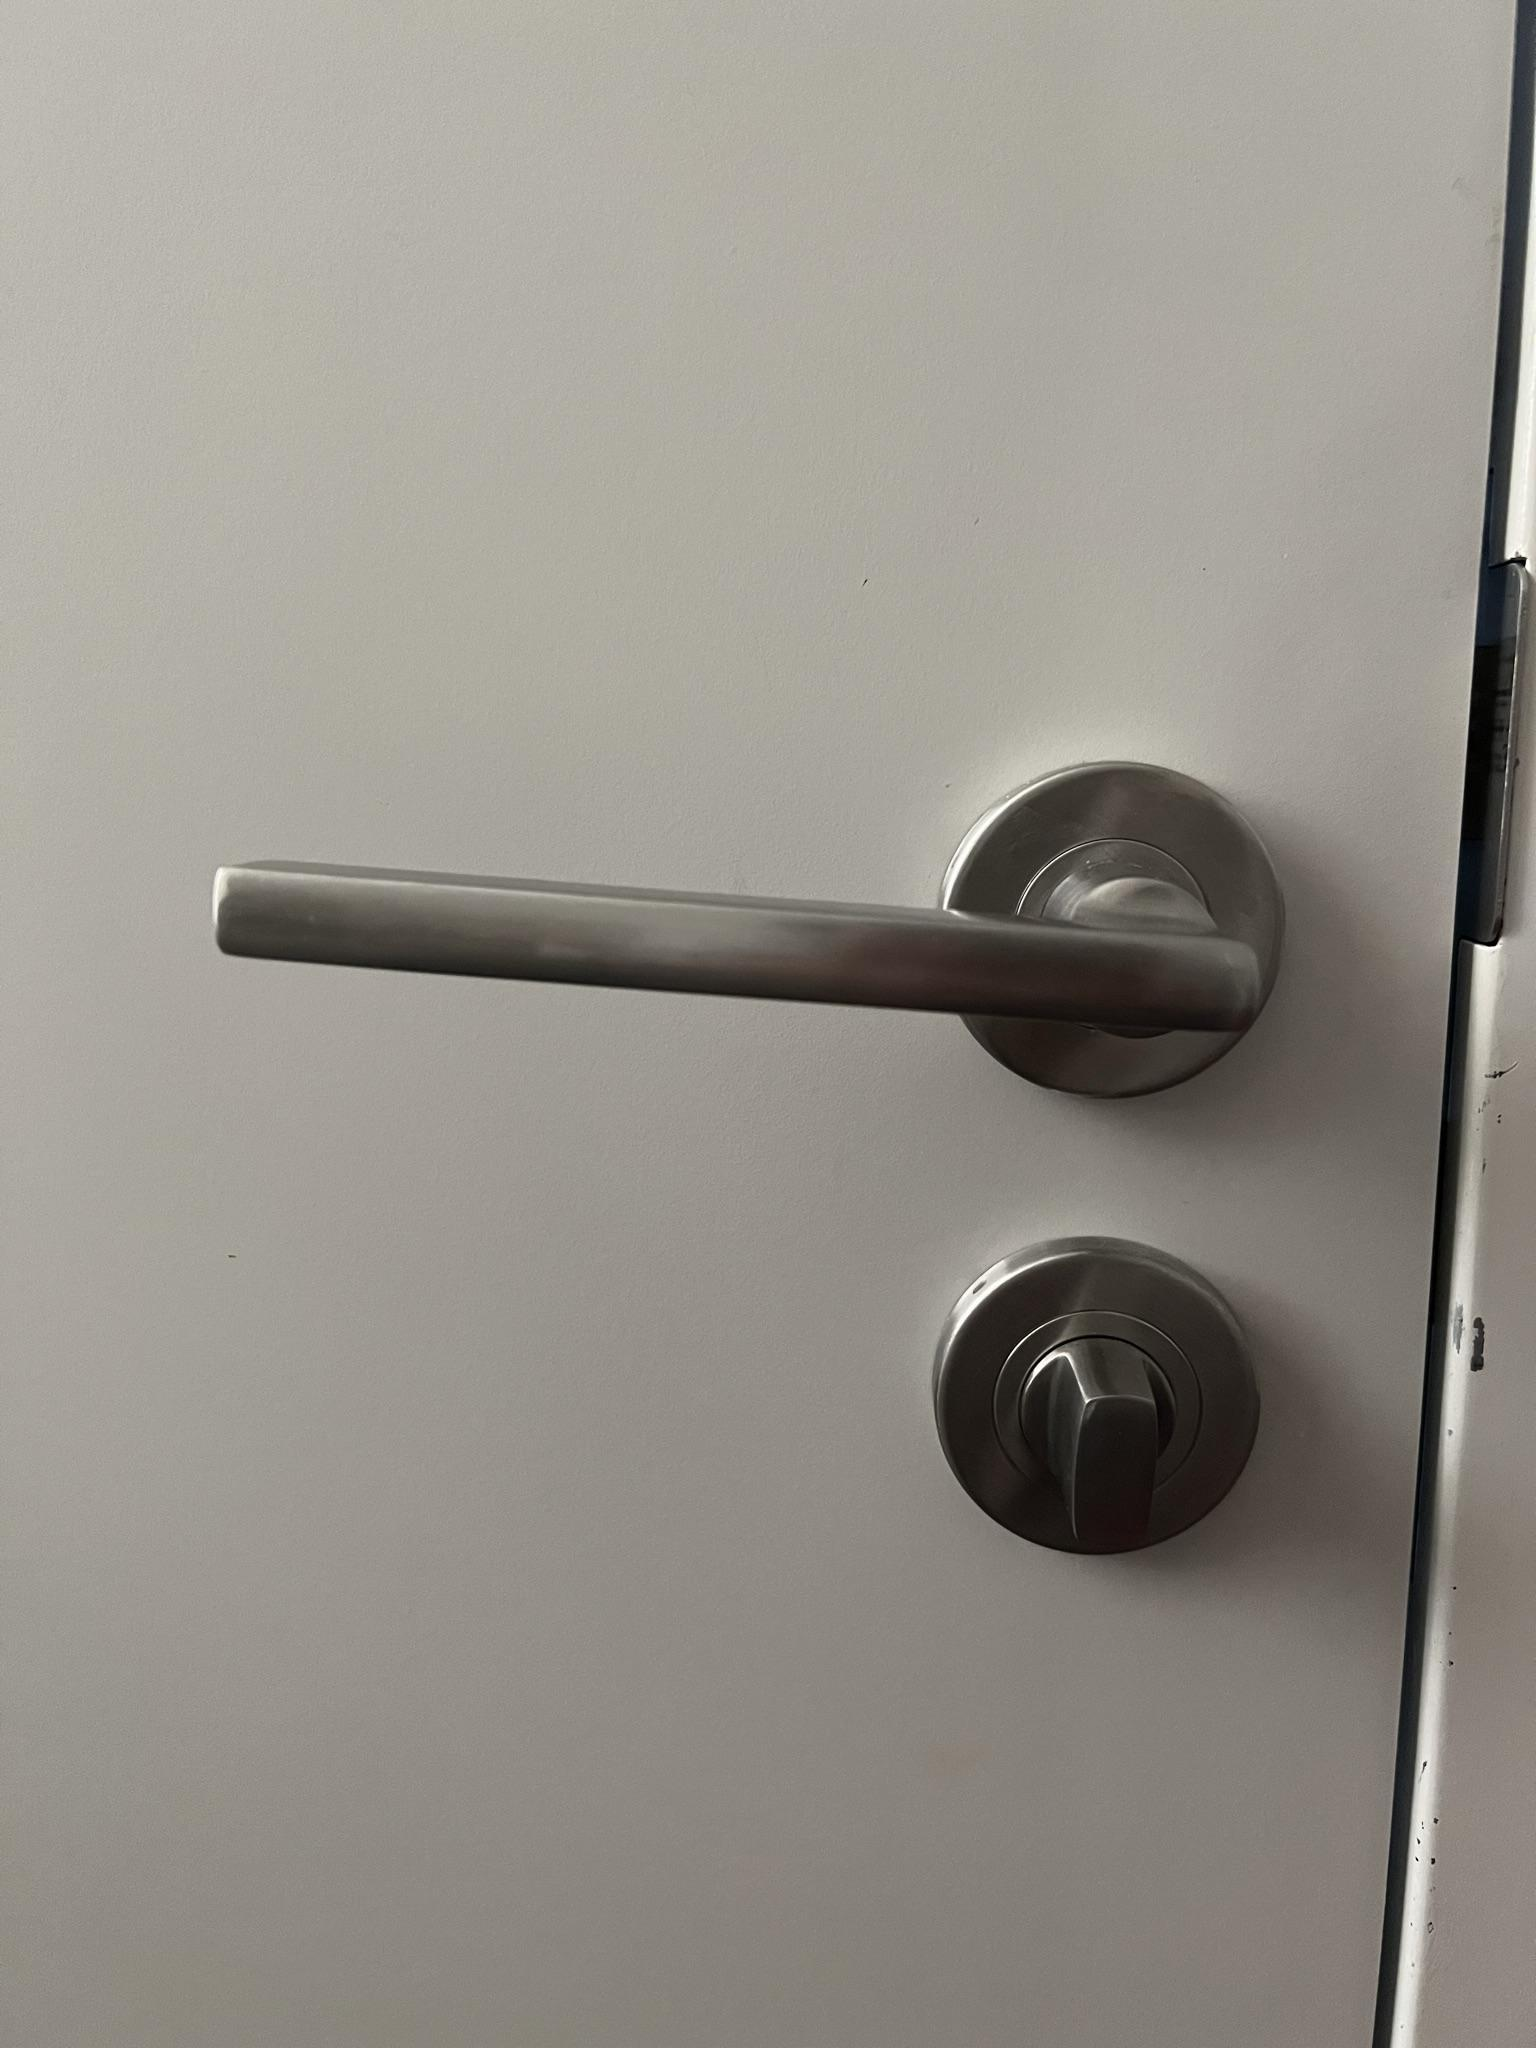handle: (190, 742, 1320, 1582)
